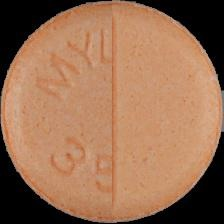0378-0351: (0, 0, 224, 224)
